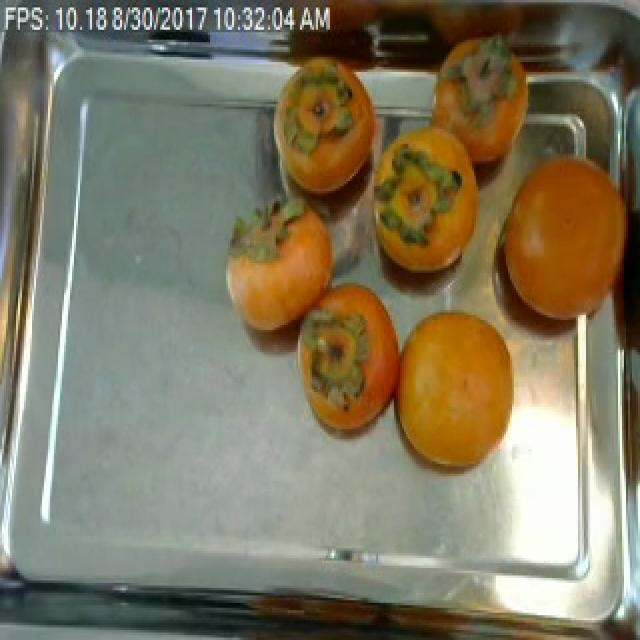Fruit: (382, 288, 526, 486), (286, 265, 412, 449), (262, 45, 396, 211), (214, 196, 344, 350)
